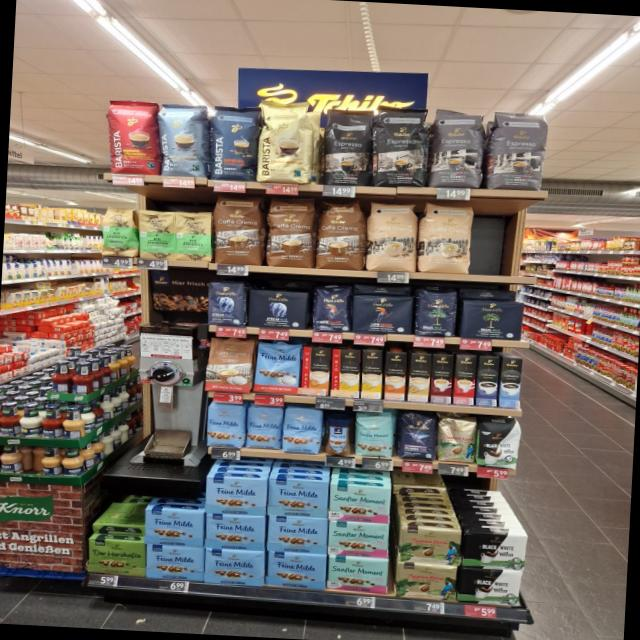AB Bohne: (205, 280, 247, 328)
AB Gemahlen: (248, 288, 310, 330)
Athiopien Bohne: (99, 204, 140, 257)
Athiopien Gemahlen: (136, 209, 178, 260), (173, 210, 214, 262)
BM Bohne: (415, 287, 459, 338)
BM Gemahlen: (460, 299, 524, 342)
BW Bohne: (476, 418, 523, 471)
BW Gemahlen: (460, 529, 530, 572), (456, 567, 524, 607)
Barista CB: (256, 99, 316, 185)
Barista CC: (157, 101, 212, 178)
Barista Espresso: (207, 104, 262, 182)
Barista Kolumbien: (103, 98, 161, 176)
C Fino Bohne: (398, 412, 440, 462)
CC Mild: (364, 200, 420, 274), (418, 202, 475, 274)
CC Vollmundig: (206, 337, 254, 394)
CC Vollmundig 36 Pads: (314, 194, 368, 270), (211, 194, 266, 266), (263, 195, 317, 268)
Colombia BB Bohne: (436, 416, 478, 466)
Colombia BB Gemahlen: (398, 524, 463, 566), (394, 562, 459, 602)
Empty Shelf: (472, 204, 542, 276)
Espresso Aromatisch: (489, 108, 549, 191), (430, 105, 488, 190)
Espresso Kraftig: (372, 104, 432, 188), (321, 106, 375, 186)
FM 36 Pads: (255, 341, 301, 396)
FM Bohne: (204, 402, 247, 450), (281, 406, 322, 454), (246, 404, 284, 452)
FM Gemahlen: (266, 476, 330, 518), (143, 506, 206, 548), (266, 514, 329, 555), (204, 476, 268, 516), (268, 550, 328, 590), (203, 549, 266, 587), (144, 544, 206, 582), (206, 513, 266, 552)
FM Instant: (324, 414, 354, 458)
Herzhatfe Mundig: (86, 536, 146, 577)
LG Bohne: (312, 284, 352, 333)
LG Gemahlen: (351, 295, 415, 337)
SM Bohne: (352, 412, 396, 459)
SM Gemahlen: (328, 482, 392, 524), (326, 556, 390, 594), (328, 520, 390, 558)
Simo CCMild: (330, 349, 360, 398)
Simo CCMild bigpack: (361, 350, 384, 400)
Simo CCVollmundig: (302, 346, 331, 396)
Simo CCVollmundig bigpack: (384, 352, 407, 402)
Simo Decaff: (408, 353, 431, 403)
Simo Es Brazil: (453, 354, 476, 406)
Simo Es Caramel: (431, 354, 454, 404)
Simo Es Kraft: (476, 356, 499, 406)
Simo Es Vanilla: (500, 357, 522, 408)
